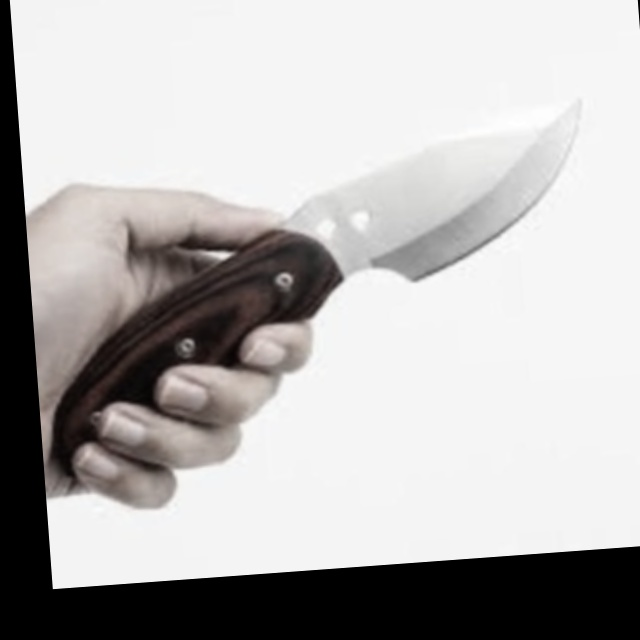Sharp-Object: (32, 99, 607, 480)
